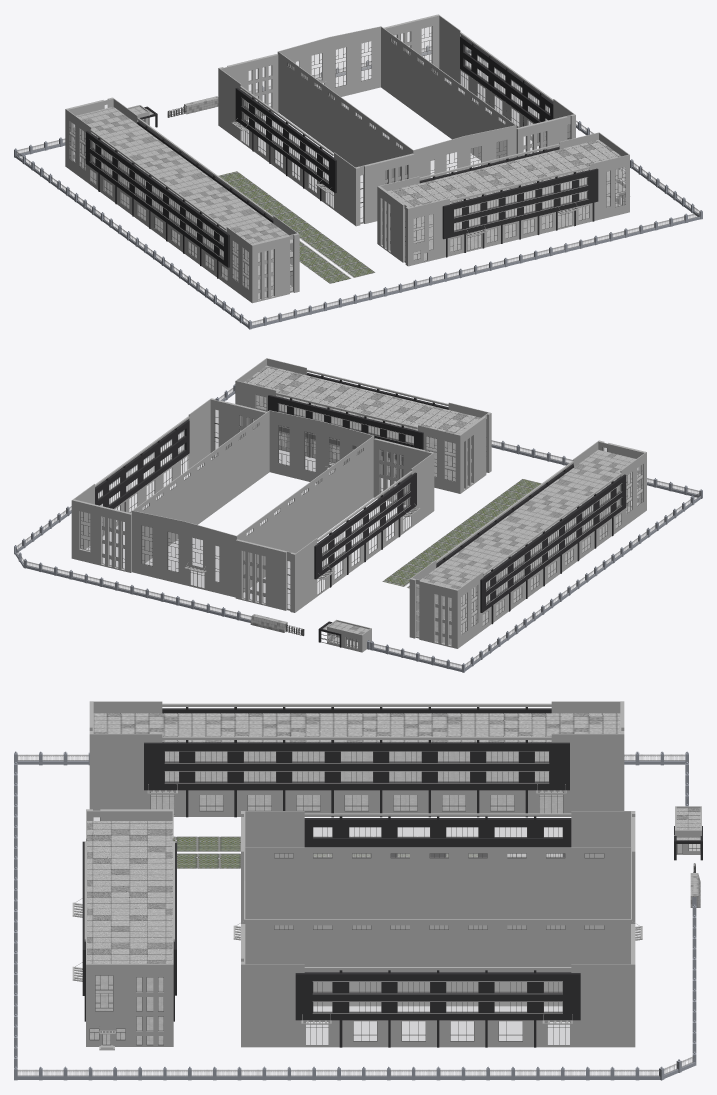
The model's file is factory-building.glb.
3 views of the same model, one above another, from view 1: azimuth 30°, elevation 25°; view 2: azimuth 150°, elevation 25°; view 3: azimuth 270°, elevation 25° (orthographic). The views are drawn at different scales.
Visible parts, largest first — view 1: Obj3d66-7470555-352-754, Obj3d66-7470555-204-710, Obj3d66-7470555-59-828, Obj3d66-7470555-320-941, Obj3d66-7470555-108-320, Obj3d66-7470555-326-110, Obj3d66-7470555-219-663, Obj3d66-7470555-54-480, Obj3d66-7470555-119-567, Obj3d66-7470555-225-290, Obj3d66-7470555-1181-478, Obj3d66-7470555-188-668 (+15 smaller); view 2: Obj3d66-7470555-352-754, Obj3d66-7470555-320-941, Obj3d66-7470555-59-828, Obj3d66-7470555-225-290, Obj3d66-7470555-326-110, Obj3d66-7470555-108-320, Obj3d66-7470555-204-710, Obj3d66-7470555-219-663, Obj3d66-7470555-54-480, Obj3d66-7470555-1181-478, Obj3d66-7470555-1467-690, Obj3d66-7470555-61-634 (+13 smaller); view 3: Obj3d66-7470555-352-754, Obj3d66-7470555-59-828, Obj3d66-7470555-54-480, Obj3d66-7470555-225-290, Obj3d66-7470555-108-320, Obj3d66-7470555-219-663, Obj3d66-7470555-278-973, Obj3d66-7470555-326-110, Obj3d66-7470555-61-634, Obj3d66-7470555-204-710, Obj3d66-7470555-1181-478, Obj3d66-7470555-316-826 (+15 smaller).
Boxes of the visible parts, box(x1,y1,x2,y2) form: Obj3d66-7470555-352-754: box(277, 26, 516, 184); Obj3d66-7470555-204-710: box(377, 132, 630, 266); Obj3d66-7470555-59-828: box(65, 97, 299, 303); Obj3d66-7470555-320-941: box(218, 54, 414, 226); Obj3d66-7470555-108-320: box(76, 106, 292, 244); Obj3d66-7470555-326-110: box(241, 26, 569, 222); Obj3d66-7470555-219-663: box(388, 140, 621, 207); Obj3d66-7470555-54-480: box(85, 120, 273, 278); Obj3d66-7470555-119-567: box(419, 147, 598, 257); Obj3d66-7470555-225-290: box(383, 14, 575, 156); Obj3d66-7470555-1181-478: box(14, 45, 702, 329); Obj3d66-7470555-188-668: box(414, 167, 625, 260); Obj3d66-7470555-352-754: box(132, 410, 374, 597); Obj3d66-7470555-320-941: box(235, 438, 434, 612); Obj3d66-7470555-59-828: box(409, 440, 646, 648); Obj3d66-7470555-225-290: box(71, 398, 266, 572); Obj3d66-7470555-326-110: box(81, 410, 410, 608); Obj3d66-7470555-108-320: box(416, 449, 635, 589); Obj3d66-7470555-204-710: box(235, 358, 491, 493); Obj3d66-7470555-219-663: box(244, 365, 480, 434); Obj3d66-7470555-54-480: box(436, 464, 626, 624); Obj3d66-7470555-1181-478: box(14, 384, 702, 672); Obj3d66-7470555-1467-690: box(80, 409, 411, 609); Obj3d66-7470555-61-634: box(416, 447, 642, 644); Obj3d66-7470555-352-754: box(233, 847, 642, 1006); Obj3d66-7470555-59-828: box(89, 701, 624, 816); Obj3d66-7470555-54-480: box(144, 707, 569, 817); Obj3d66-7470555-225-290: box(241, 924, 635, 1047); Obj3d66-7470555-108-320: box(93, 713, 620, 742); Obj3d66-7470555-219-663: box(87, 821, 172, 963); Obj3d66-7470555-278-973: box(295, 970, 580, 1047); Obj3d66-7470555-326-110: box(275, 827, 603, 1044); Obj3d66-7470555-61-634: box(151, 752, 562, 814); Obj3d66-7470555-204-710: box(72, 809, 174, 1050); Obj3d66-7470555-1181-478: box(14, 751, 696, 1080); Obj3d66-7470555-316-826: box(304, 816, 571, 857).
Bounding box in the file's own units: 124 × 16.35 × 114.
Materials: 10 (4 with a texture image).
